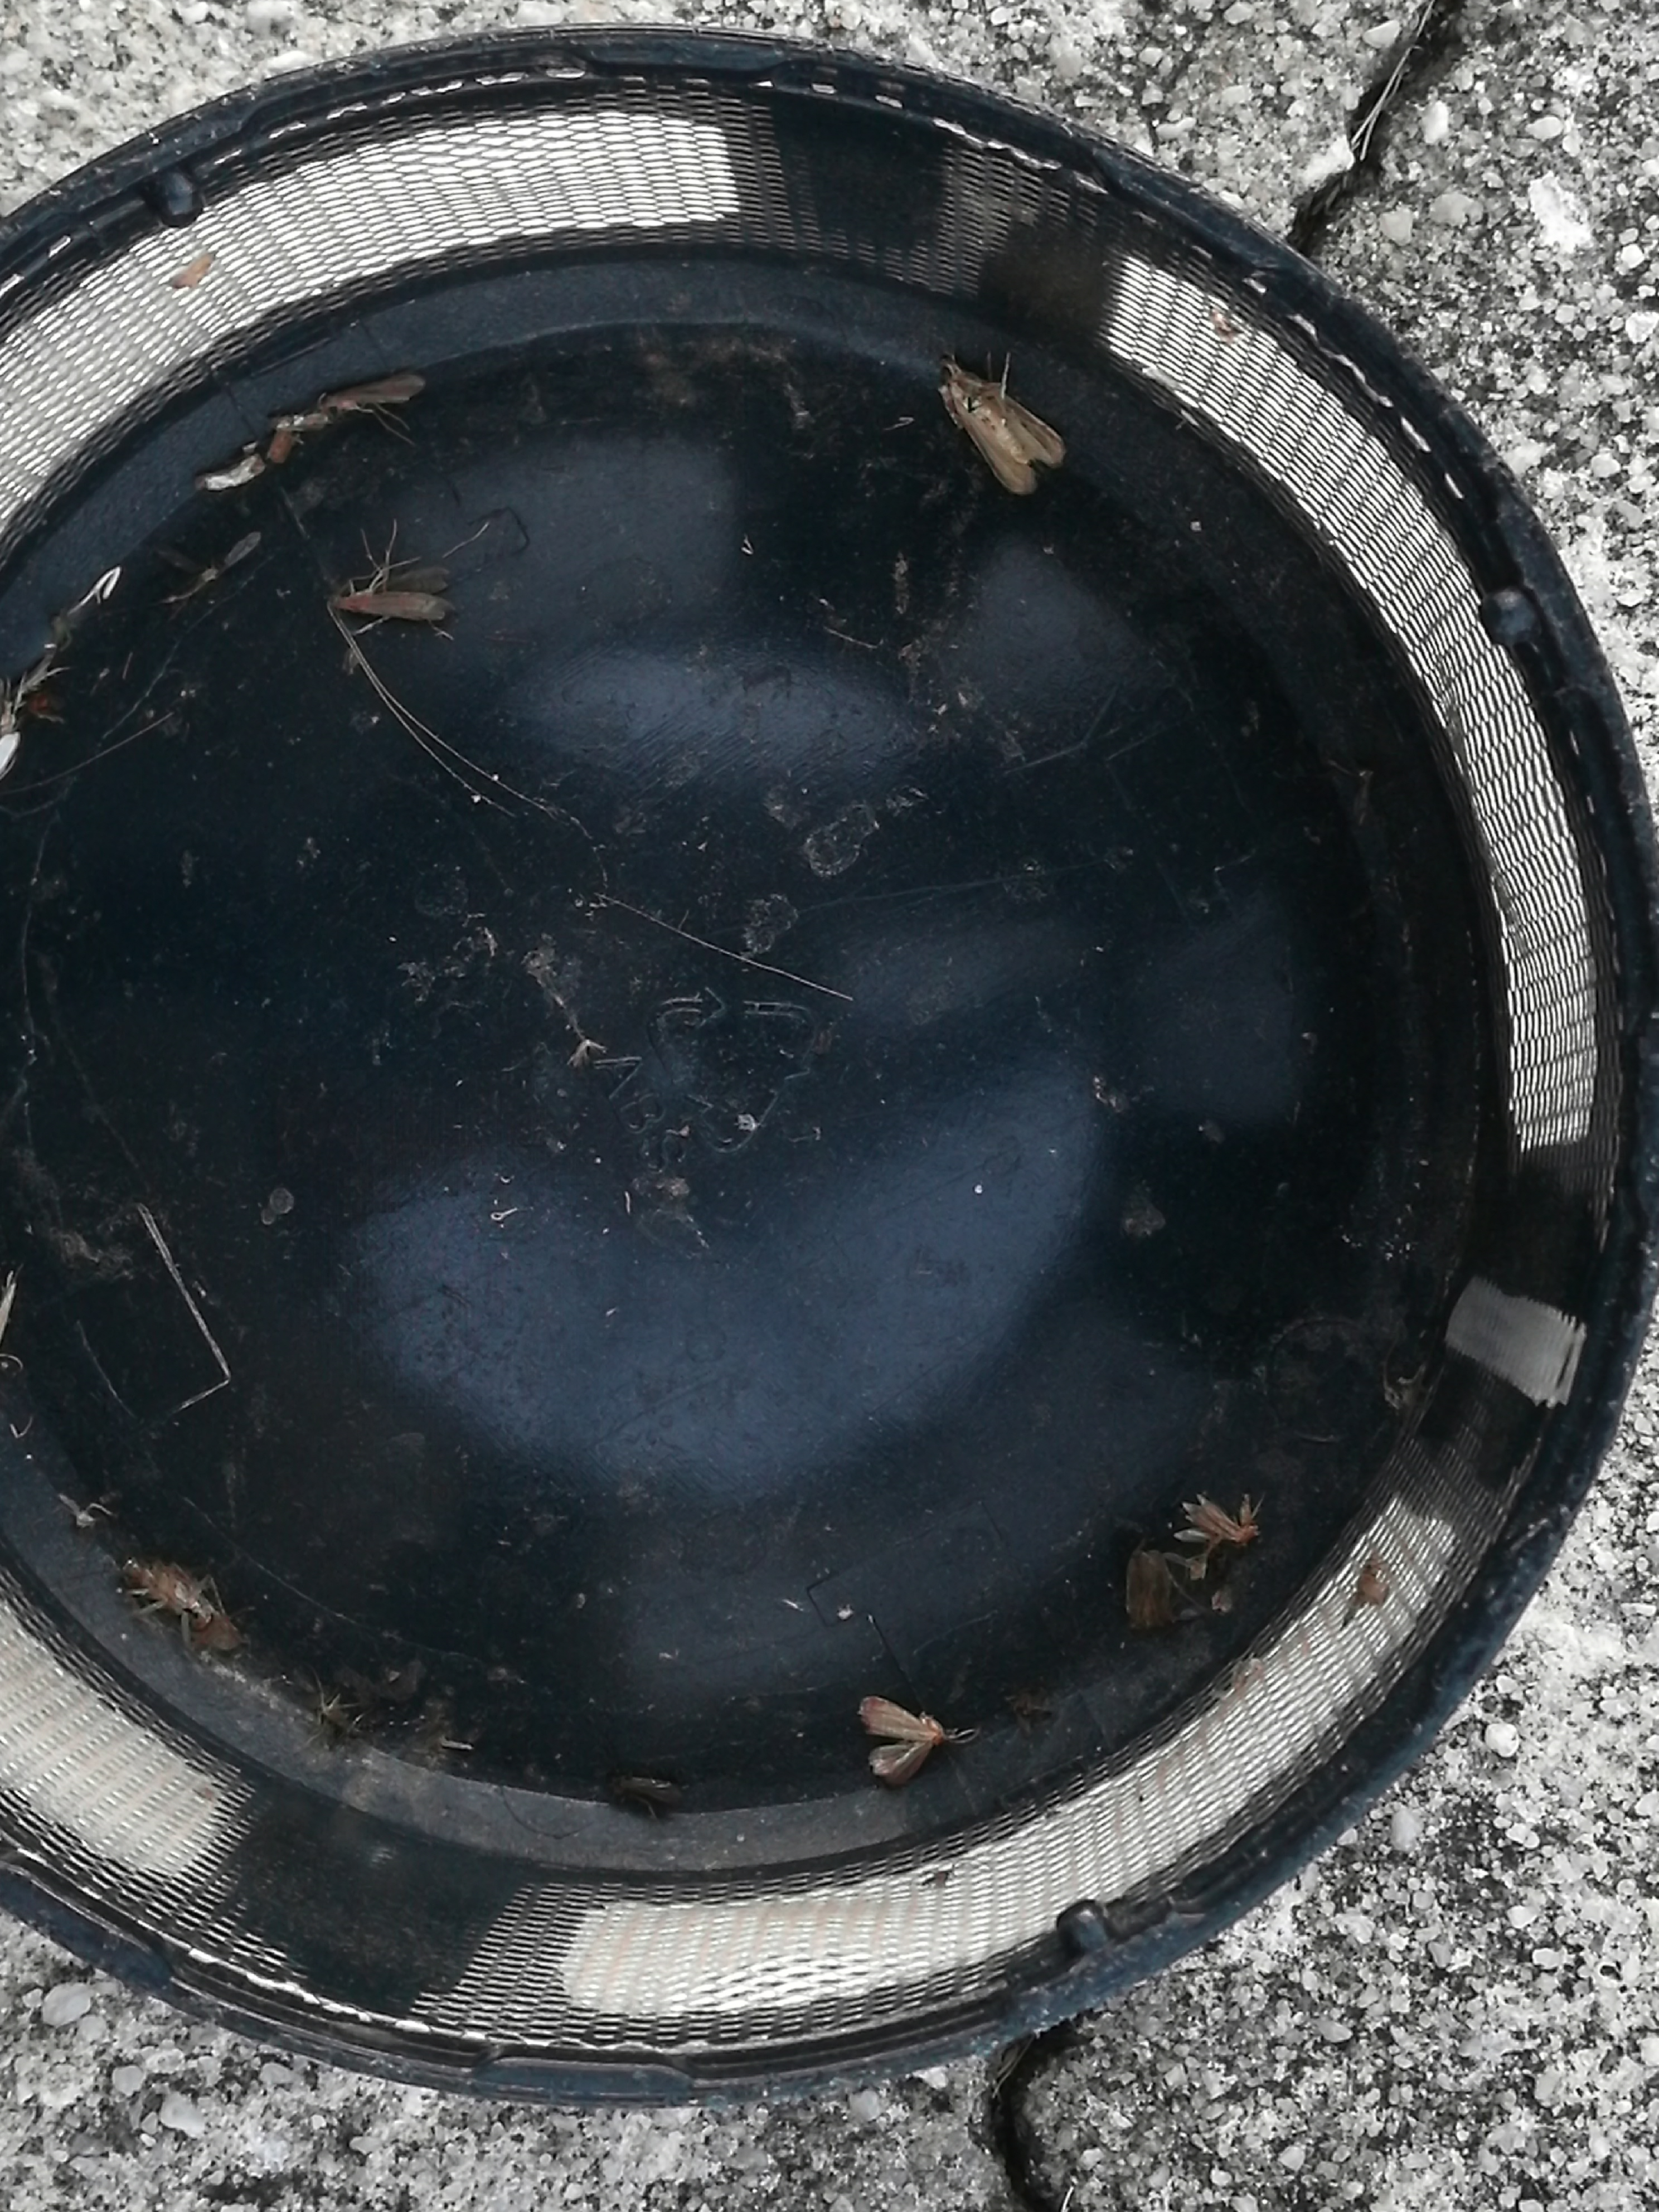mosquito: (333, 570, 453, 622), (322, 373, 423, 409), (608, 1770, 680, 1811)
moth: (939, 355, 1065, 493), (861, 1698, 943, 1784), (1175, 1491, 1260, 1543)
